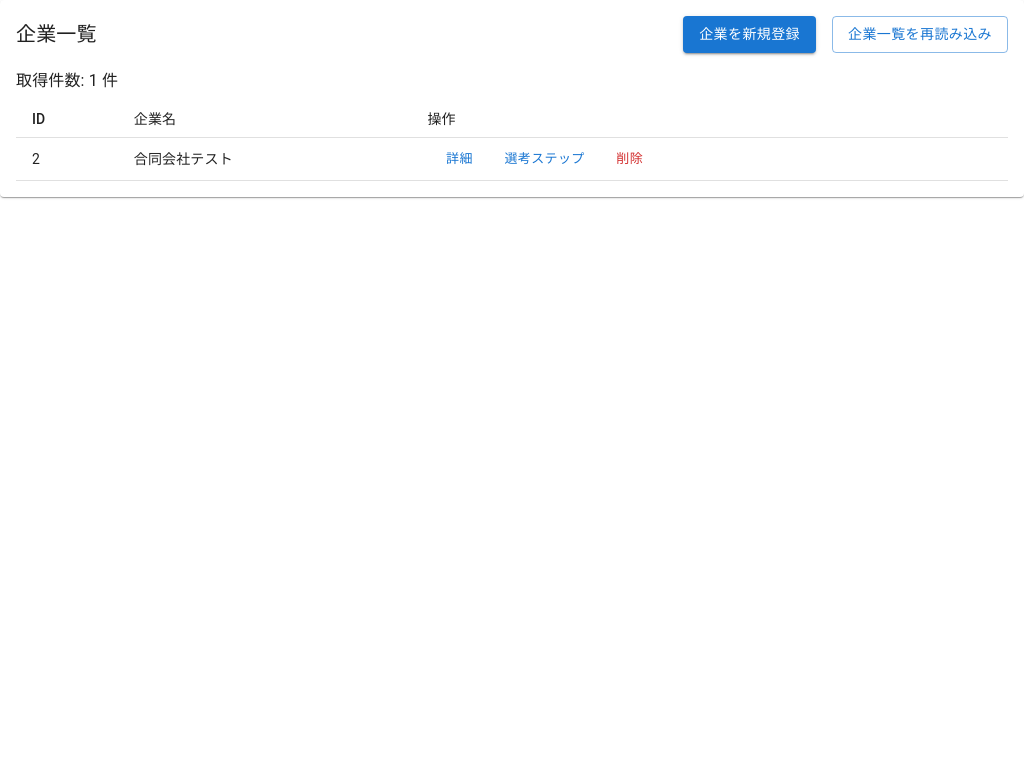
企業詳細 › 削除済みの企業の詳細は参照できず、404と分かるメッセージを表示する
Expected: the text "取得件数: 1 件" is shown, top-left (16, 70), bottom-right (118, 90)
Click the button with aria-label "企業「合同会社テスト」の詳細".
click(459, 159)  # box top-left (427, 144), bottom-right (491, 174)
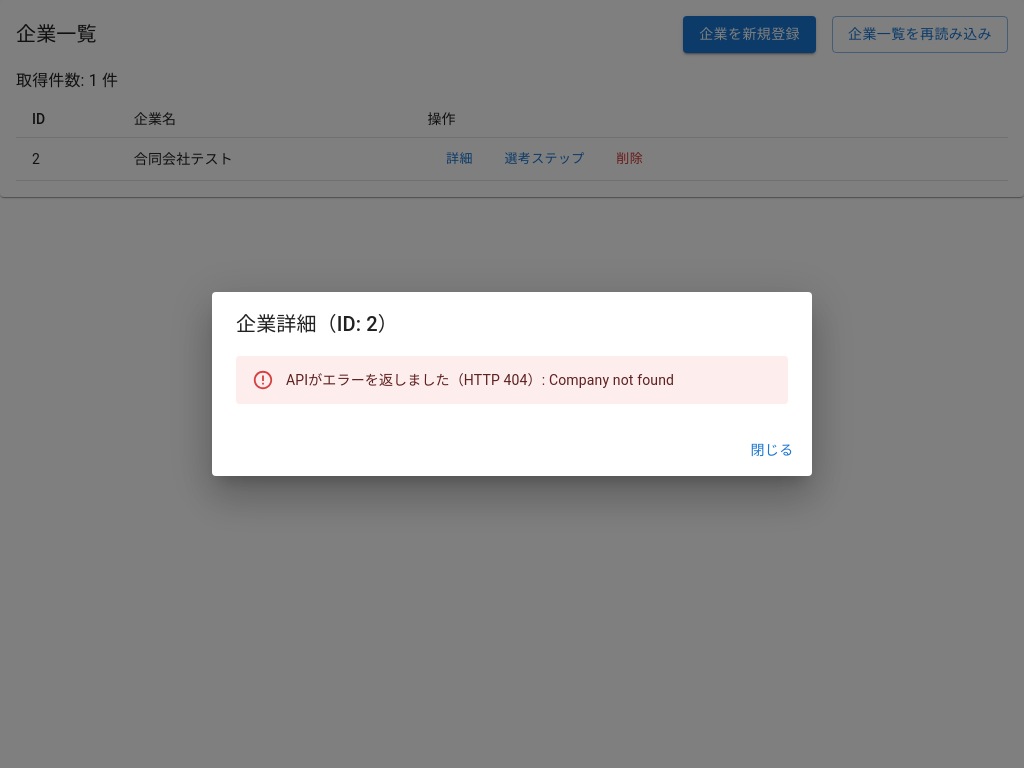
Now the message shows "404", box top-left (286, 372), bottom-right (674, 388)
Now the message shows "Company not found", box top-left (286, 372), bottom-right (674, 388)
